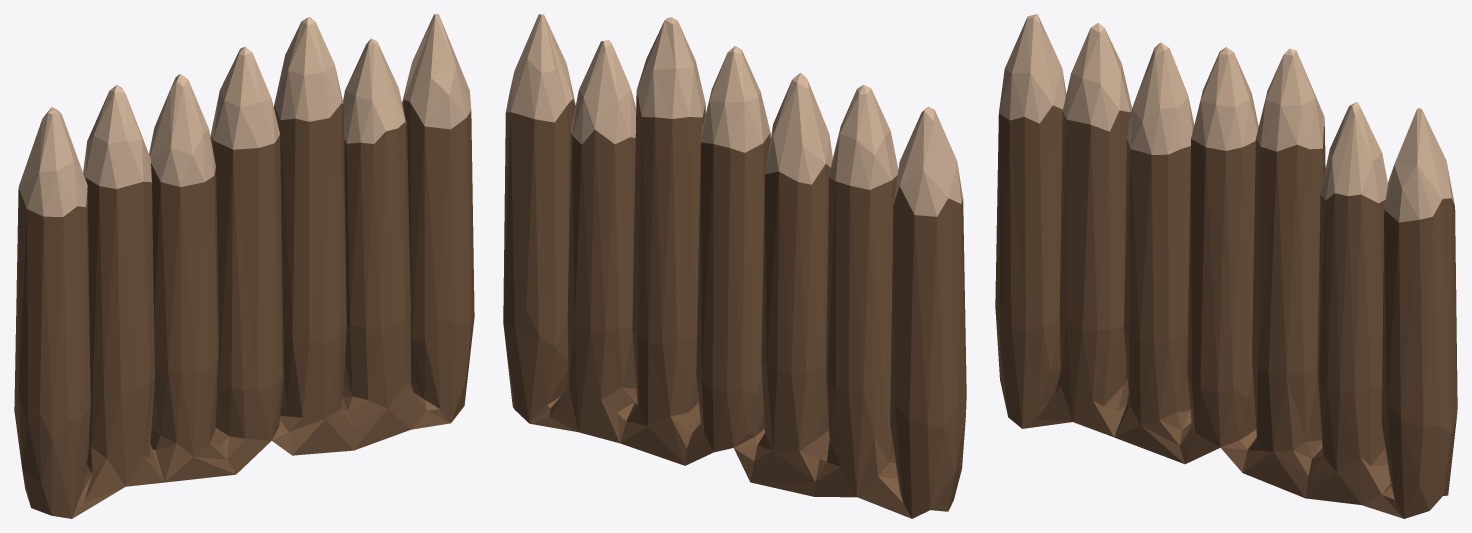
File: Wall.dae
3 renders of one model, left to right at view 1: azimuth 30°, elevation 25°; view 2: azimuth 150°, elevation 25°; view 3: azimuth 330°, elevation 25°, orthographic.
Parts seen in each view (by area): view 1: Cube; view 2: Cube; view 3: Cube.
Boxes of the visible parts, <box> form: Cube: <box>14,14,474,518</box>; Cube: <box>503,14,966,518</box>; Cube: <box>995,14,1457,518</box>.
Bounding box in the file's own units: 4.67 × 0.691 × 4.27.
Materials: 1 (1 with a texture image).
